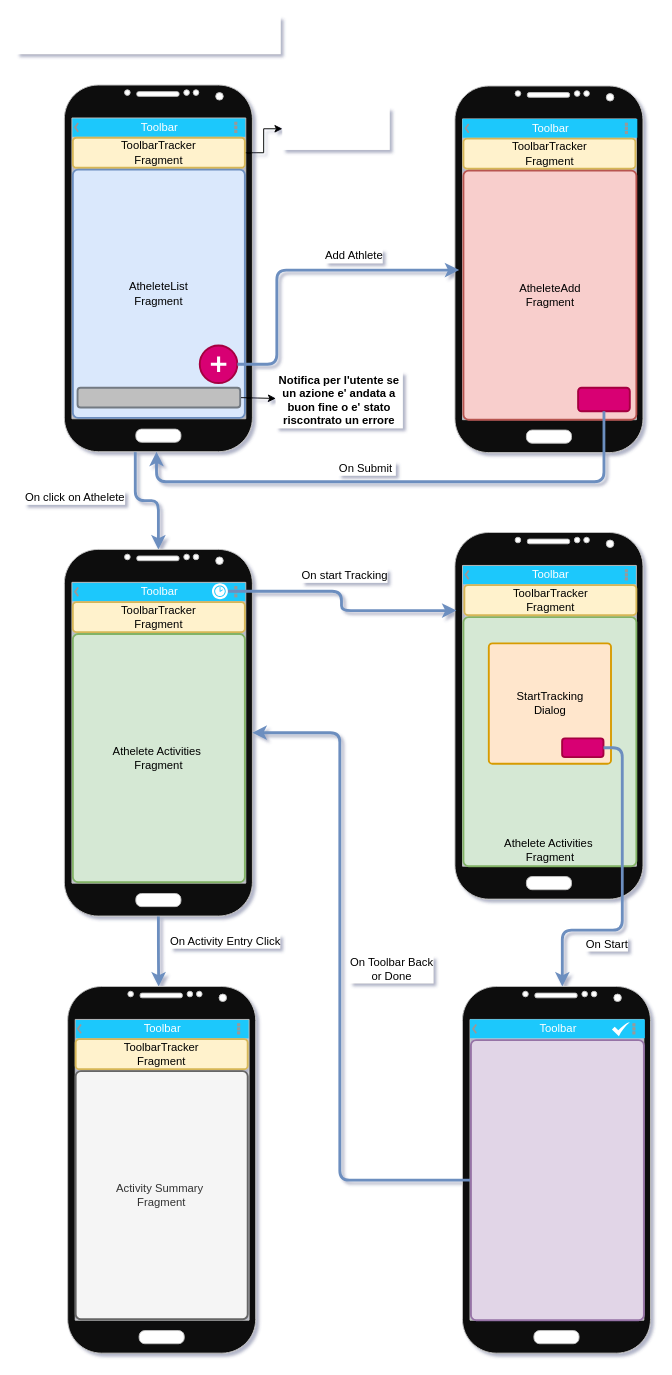
The diagram is 672 pixels wide and 1375 high, and some of its shapes have lost their labels. Here are the shapes that lost their labels. From the top down, the centre of each, then its label:
(148,35): App Flow Schematics
(335,128): Presente solo se il tracker e stato fatto partire
(158,397): Snackbar (Toast) Notification
(603,399): Add
(582,747): Start
(557,1180): Chrono Tracker Fragment
